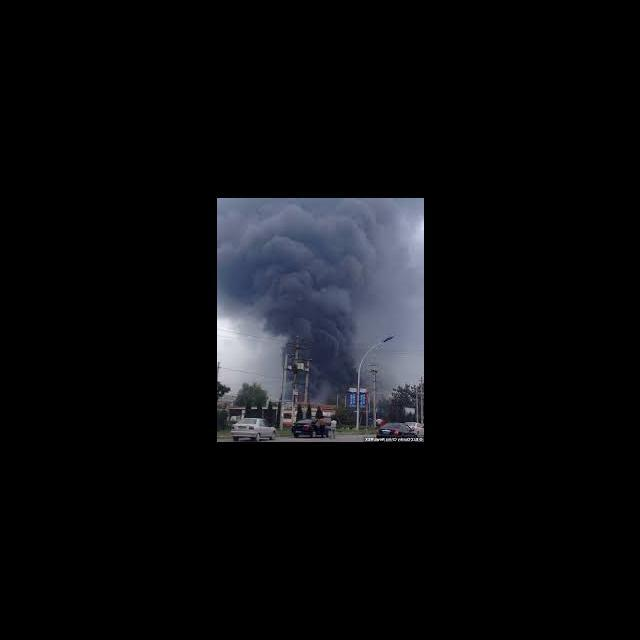Smoke: (218, 198, 382, 303), (229, 304, 378, 403)
